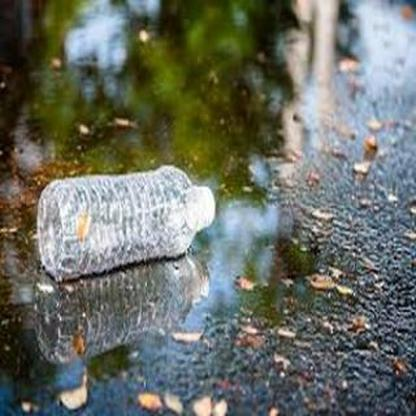plastic bottle: (37, 165, 214, 278)
